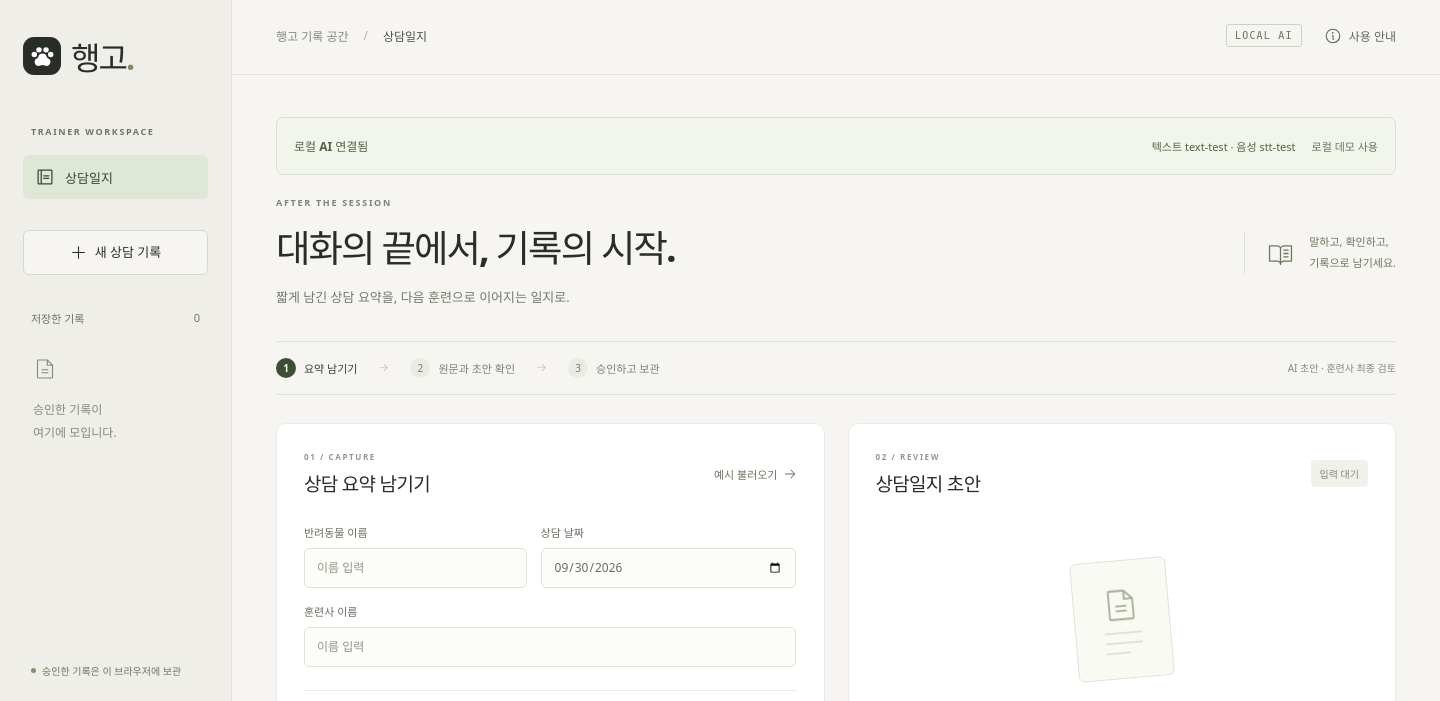
Scenario: preserves source and makes all items follow-up after AI failure
Click the button "예시 불러오기" at (755, 474), box x1=714 y1=459 x2=796 y2=489
(page scrolled)
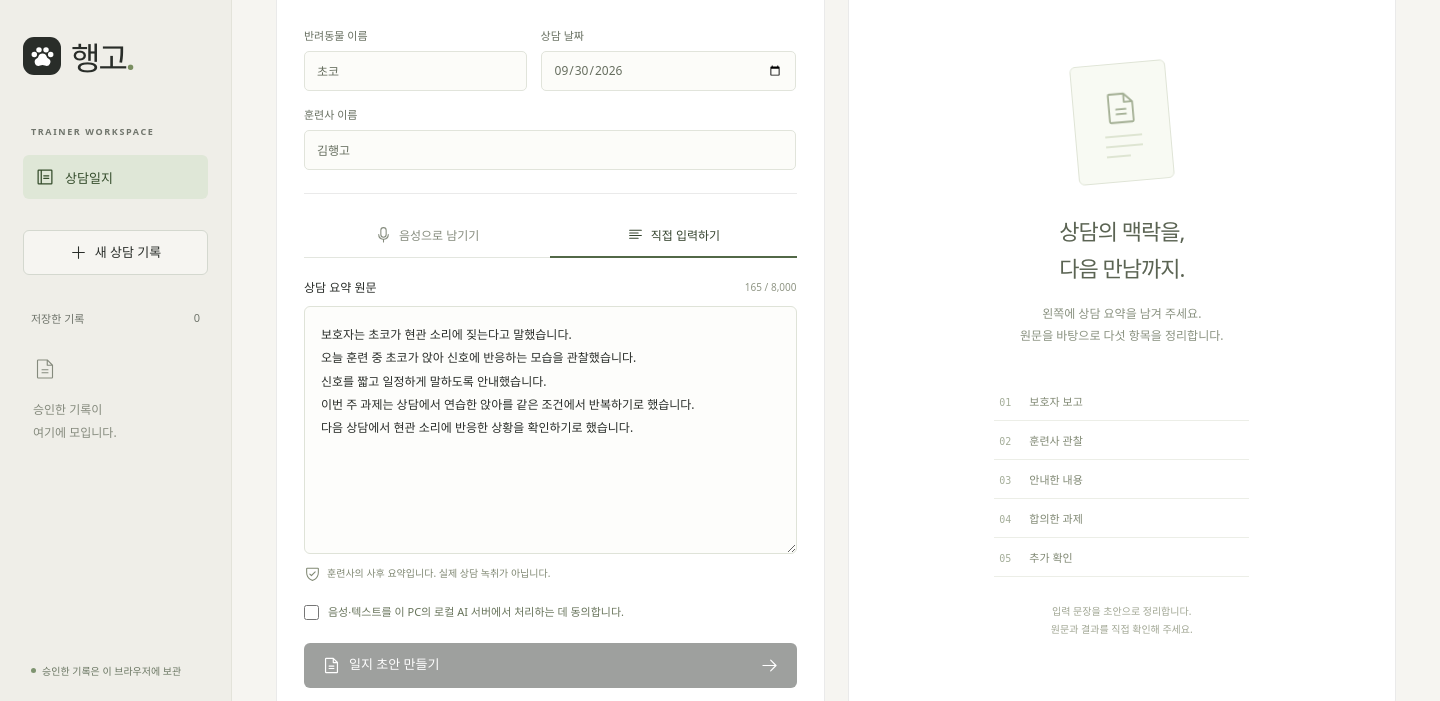
Click the checkbox labelled "음성·텍스트를 이 PC의 로컬 AI 서버에서 처리하는 데 동의합니다." at (312, 612), box x1=304 y1=605 x2=319 y2=620
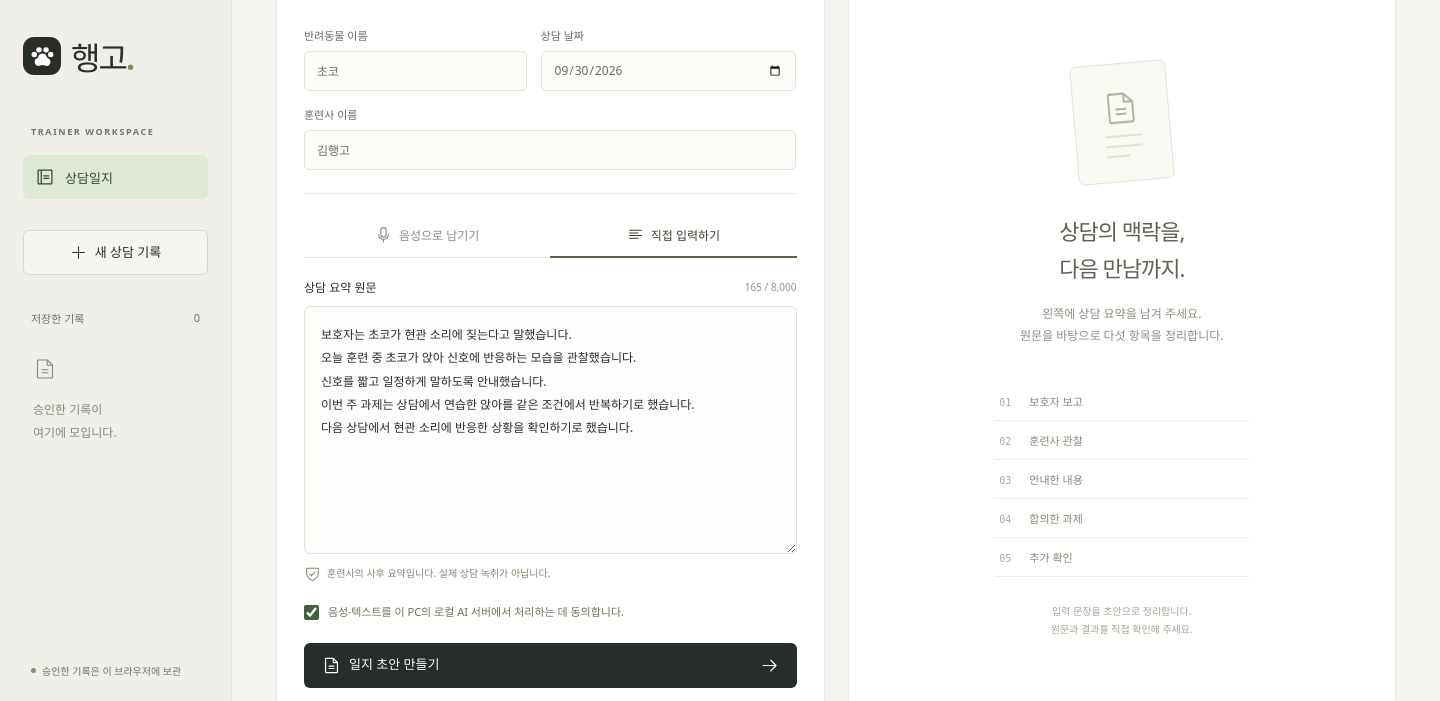
Click the button "일지 초안 만들기" at (394, 664), box x1=304 y1=643 x2=796 y2=688
(page scrolled)
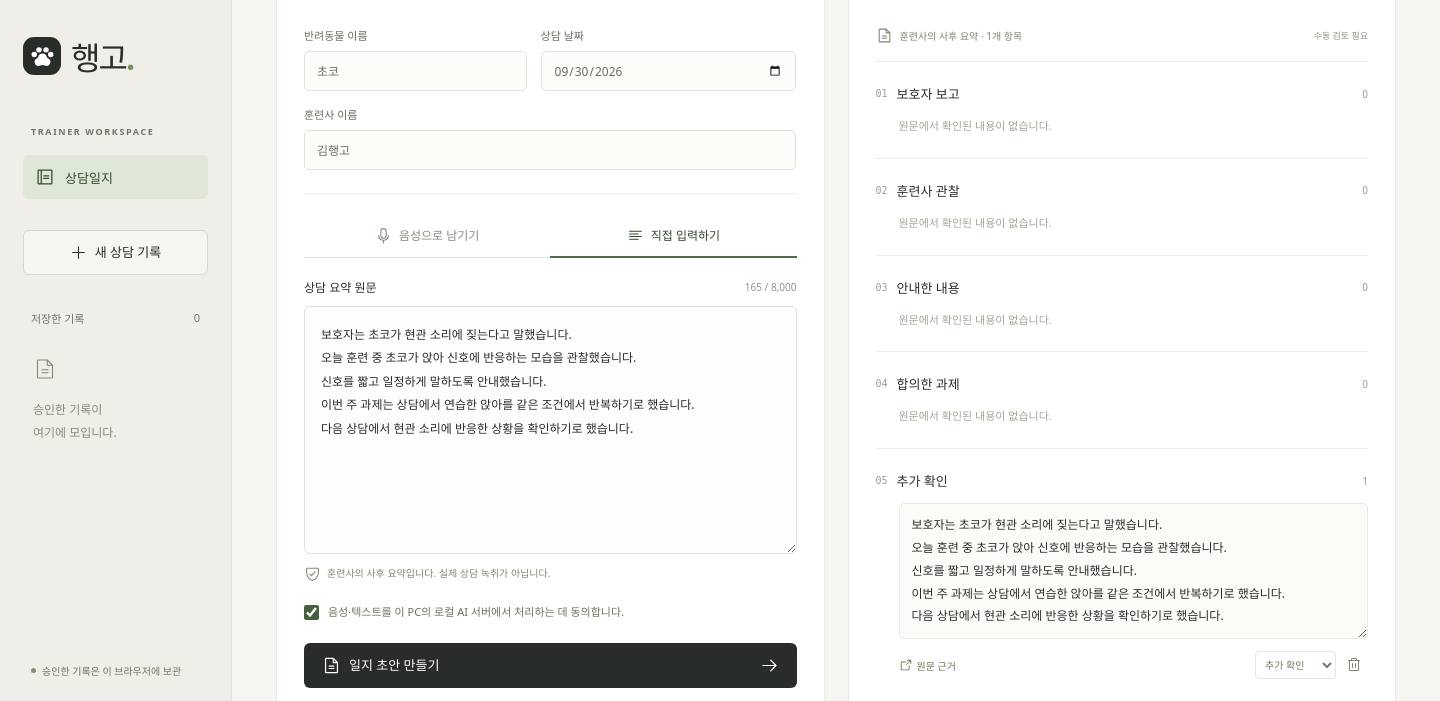
expect the text "수동 검토 필요" is shown: met, box x1=1314 y1=29 x2=1368 y2=42
